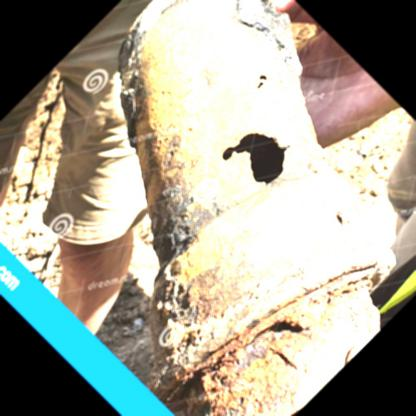burst: (223, 131, 308, 191)
